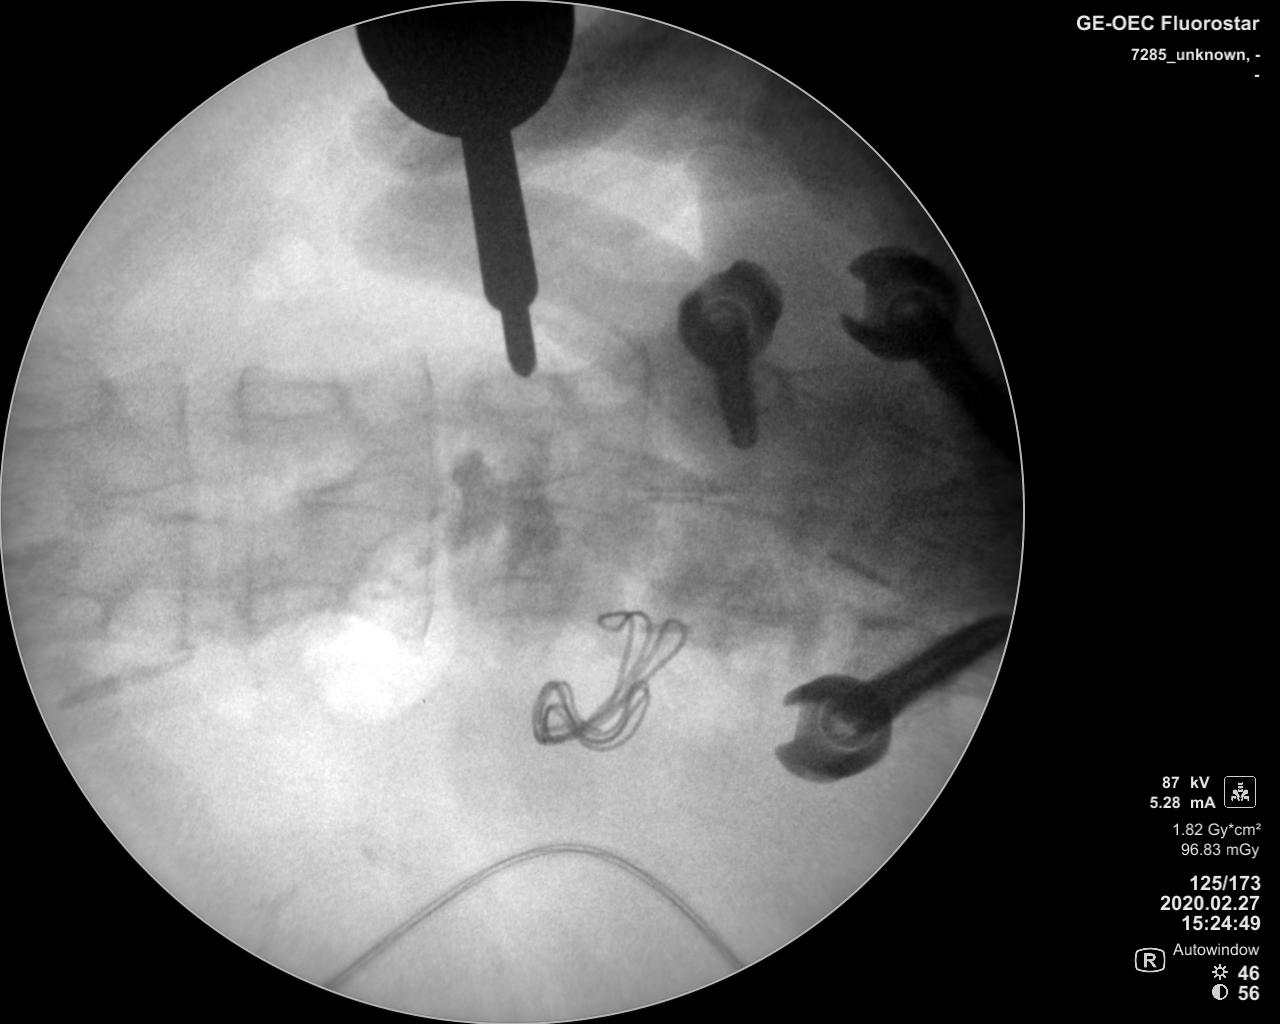eyes: (233, 373, 347, 423), (23, 373, 114, 432), (21, 592, 109, 644), (470, 574, 565, 621), (238, 579, 343, 621), (475, 375, 556, 417)
line: (168, 365, 197, 673), (410, 339, 438, 652), (234, 365, 257, 657)
nose: (297, 467, 447, 521), (498, 465, 641, 519), (96, 474, 236, 527), (692, 475, 825, 528)
